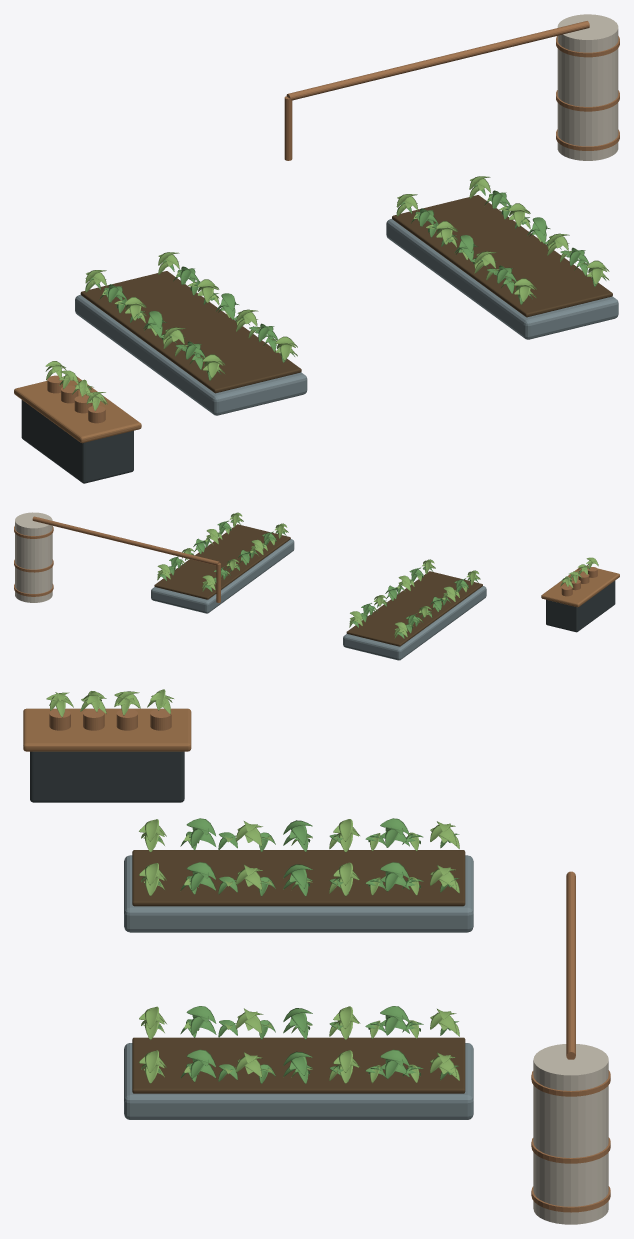
File: greenhouse-interior.glb
3 views of the same model, one above another, from view 1: azimuth 30°, elevation 25°; view 2: azimuth 150°, elevation 25°; view 3: azimuth 270°, elevation 25° (orthographic). The views are drawn at different scales.
Parts seen in each view (by area): view 1: Furniture_Soil, Furniture_Steel, Furniture_Ivory, Furniture_Moss, Furniture_Copper, Furniture_Leaf, Furniture_Graphite, Furniture_Wood; view 2: Furniture_Soil, Furniture_Steel, Furniture_Ivory, Furniture_Moss, Furniture_Copper, Furniture_Leaf, Furniture_Graphite, Furniture_Wood; view 3: Furniture_Soil, Furniture_Steel, Furniture_Ivory, Furniture_Moss, Furniture_Leaf, Furniture_Graphite, Furniture_Wood, Furniture_Copper.
Part boxes in pixels (box(x1,y1,x2,y2)): Furniture_Soil: box(80, 195, 612, 393); Furniture_Steel: box(75, 219, 618, 415); Furniture_Ivory: box(557, 14, 618, 160); Furniture_Moss: box(45, 176, 609, 410); Furniture_Copper: box(47, 21, 619, 423); Furniture_Leaf: box(85, 184, 606, 380); Furniture_Graphite: box(21, 400, 133, 483); Furniture_Wood: box(14, 377, 141, 443); Furniture_Soil: box(154, 524, 482, 646); Furniture_Steel: box(151, 539, 486, 660); Furniture_Ivory: box(15, 512, 52, 602); Furniture_Moss: box(157, 512, 598, 638); Furniture_Copper: box(14, 516, 597, 602); Furniture_Leaf: box(157, 520, 478, 638); Furniture_Graphite: box(546, 581, 615, 632); Furniture_Wood: box(541, 566, 619, 607); Furniture_Soil: box(132, 850, 465, 1093); Furniture_Steel: box(124, 855, 473, 1119); Furniture_Ivory: box(533, 1044, 608, 1224); Furniture_Moss: box(46, 689, 459, 1083); Furniture_Leaf: box(158, 818, 459, 1083); Furniture_Graphite: box(30, 751, 184, 802); Furniture_Wood: box(23, 708, 191, 751); Furniture_Copper: box(49, 709, 610, 1212).
Bounding box in the file's own units: 16.04 × 2.62 × 8.74.
